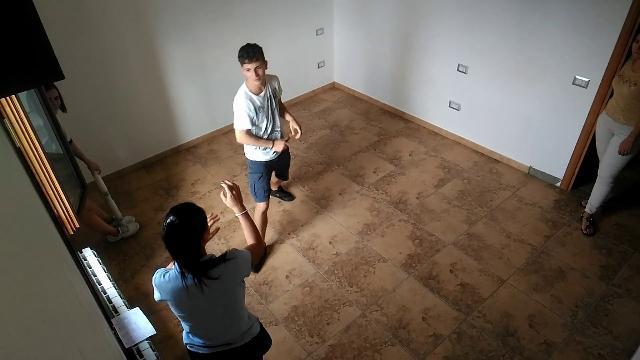knife: (272, 133, 295, 156)
non-violence: (26, 83, 139, 244), (582, 33, 640, 239)
violence: (150, 178, 274, 358), (230, 41, 304, 264)
